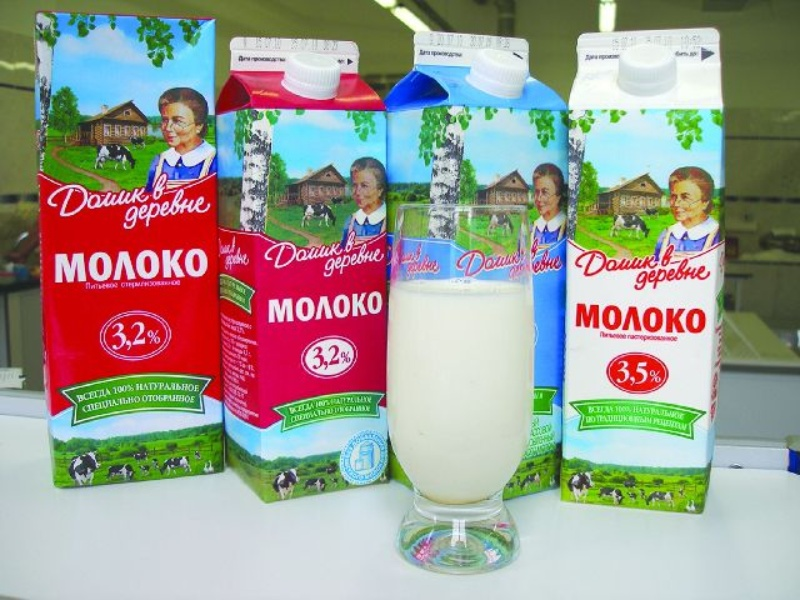milk: (12, 1, 246, 506), (551, 14, 754, 532), (206, 21, 414, 513)
